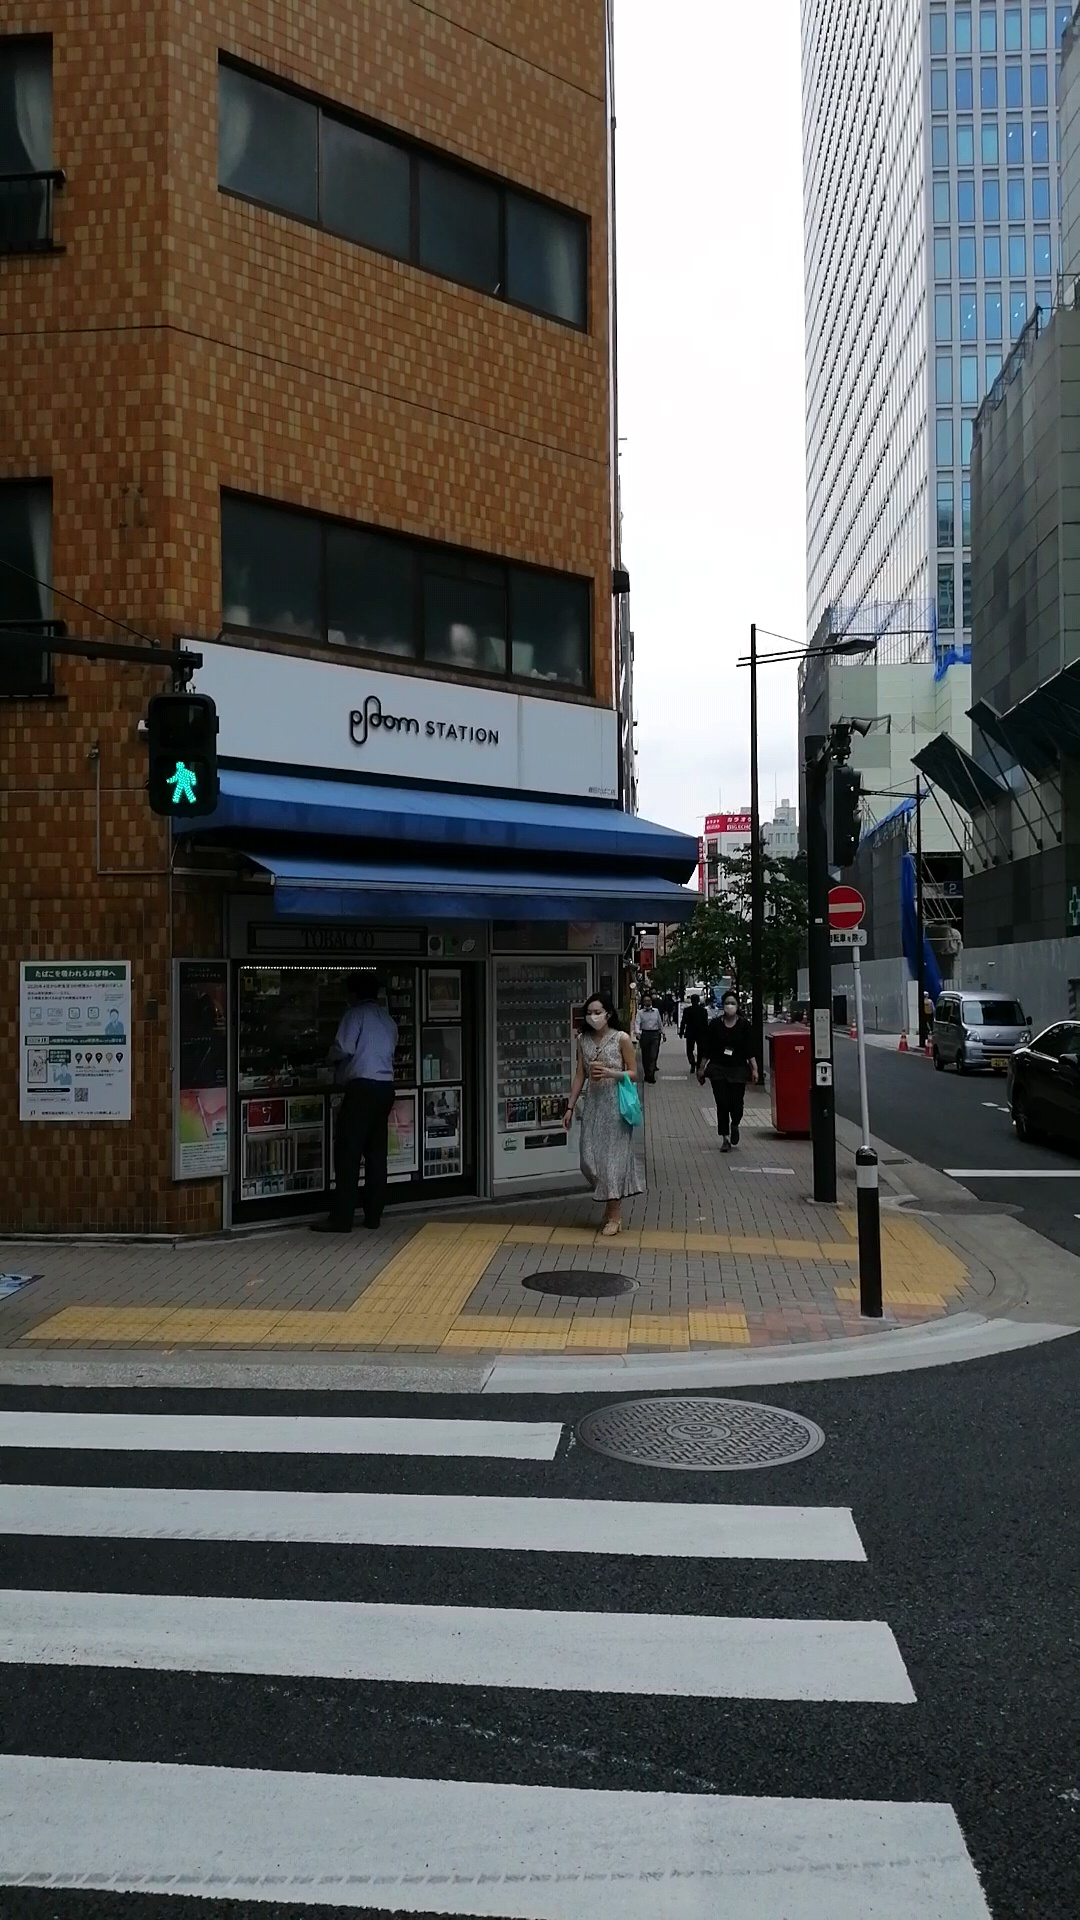green: (145, 694, 222, 816)
